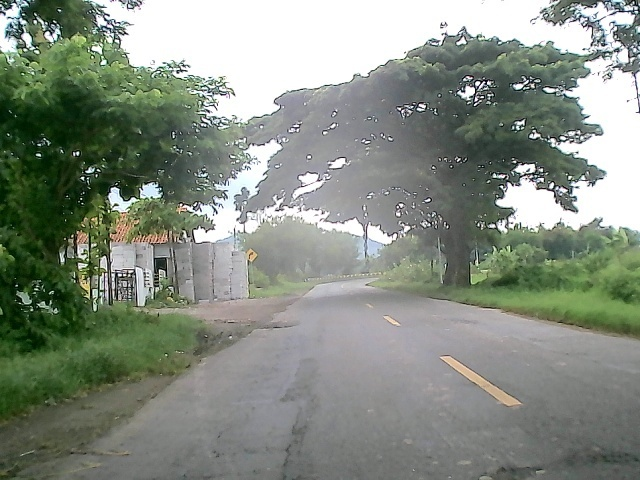Tikungan ke kanan: (243, 247, 259, 266)
